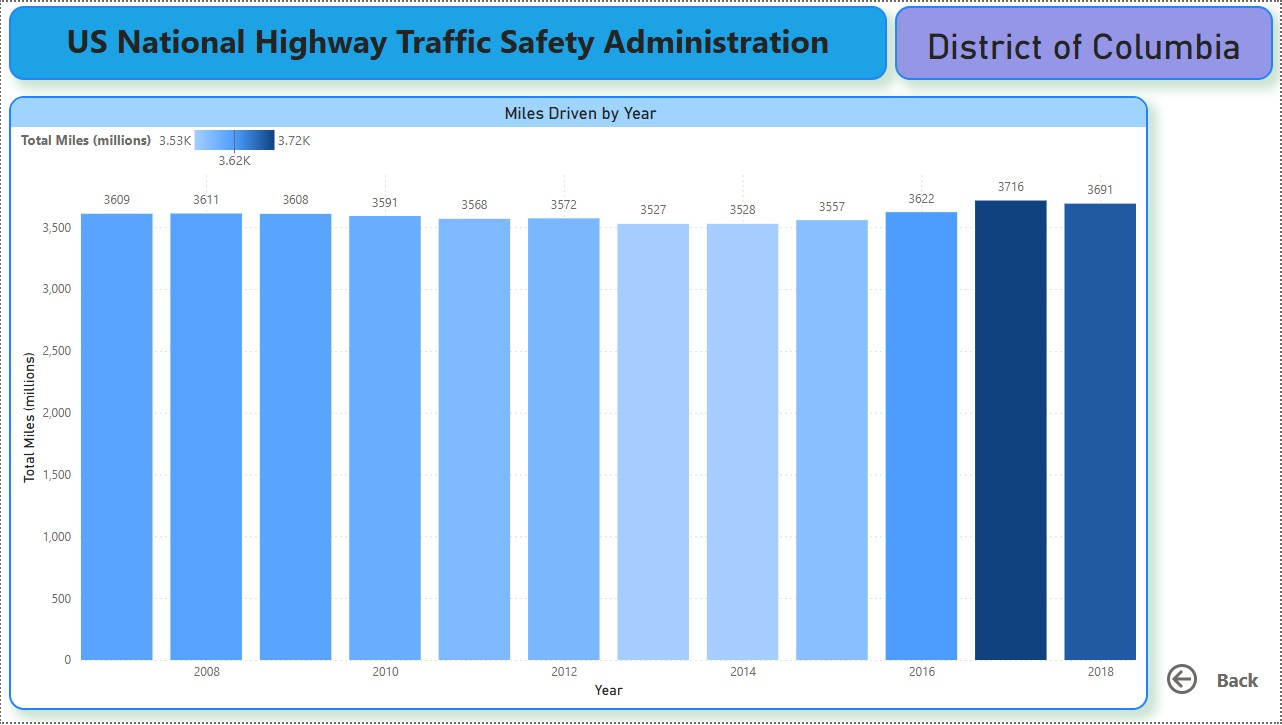

The page's visual inventory and layout, read from the dashboard file:
{"tool":"powerbi","page":{"name":"Miles driven","canvas":[1280,720],"ordinal":2},"visuals":[{"type":"columnChart","title":"Miles Driven by Year","fields":{"Category":["PA - Driving Safety.Year"],"Y":["Sum(PA - Driving Safety.Miles (millions))"]},"box":[8.1,93.7,1138.9,613.8],"z":0},{"type":"card","title":"Selected US State","fields":{"Values":["Min(PA - Driving Safety.State)"]},"box":[894,4,378,73.6],"z":1000},{"type":"textbox","box":[8.1,4,877.9,73.6],"z":2000},{"type":"actionButton","box":[1161.1,657.1,99.8,40.3],"z":3000}]}

Visuals, with their boxes in screenshot pixels (x1, y1, x2, y2), scaled from the page's 1280x720 canvas onto the 1282x725 screenshot:
"Miles Driven by Year" columnChart: locate(8, 94, 1149, 712)
"Selected US State" card: locate(895, 4, 1274, 78)
textbox: locate(8, 4, 887, 78)
actionButton: locate(1163, 662, 1263, 702)
